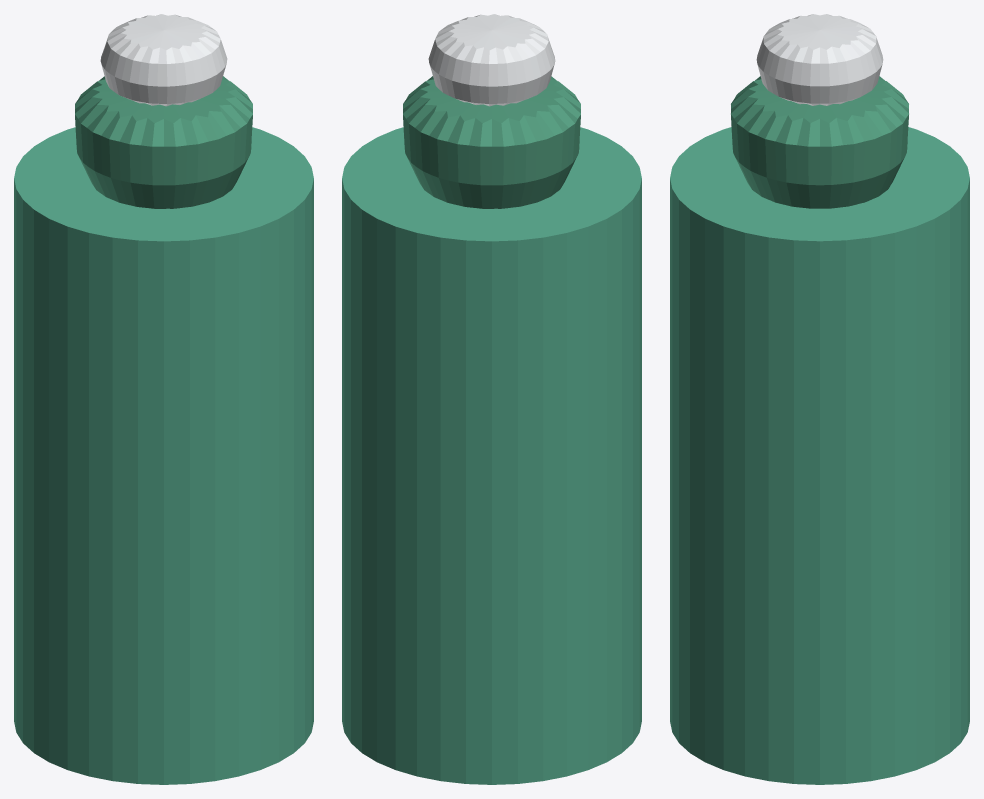
The model's file is guarana.glb.
3 views of the same model, side by side, from view 1: azimuth 30°, elevation 25°; view 2: azimuth 150°, elevation 25°; view 3: azimuth 270°, elevation 25° (orthographic).
Parts seen in each view (by area): view 1: Guarana; view 2: Guarana; view 3: Guarana.
Part boxes in pixels (<box>): Guarana: <box>14,14,313,784</box>; Guarana: <box>342,14,641,784</box>; Guarana: <box>670,14,969,784</box>.
Size of the model in its own units: 0.23 by 0.585 by 0.23.
